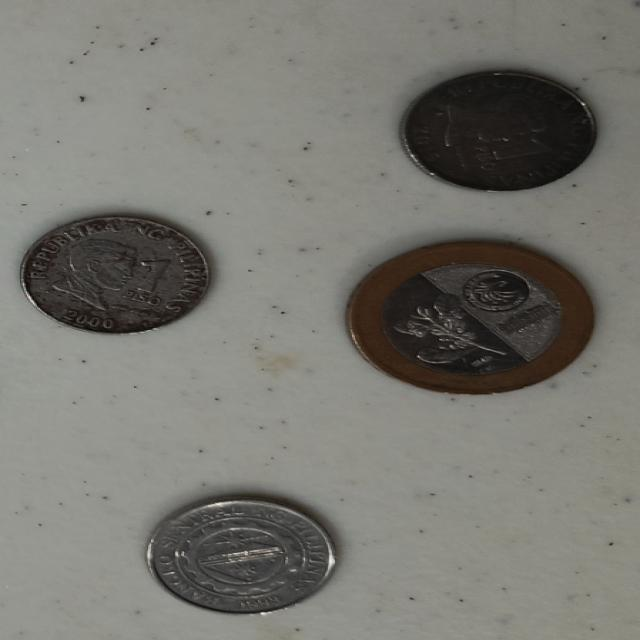1_peso: (402, 72, 594, 190), (21, 216, 208, 333), (148, 499, 332, 613)
20_peso: (349, 243, 592, 393)
